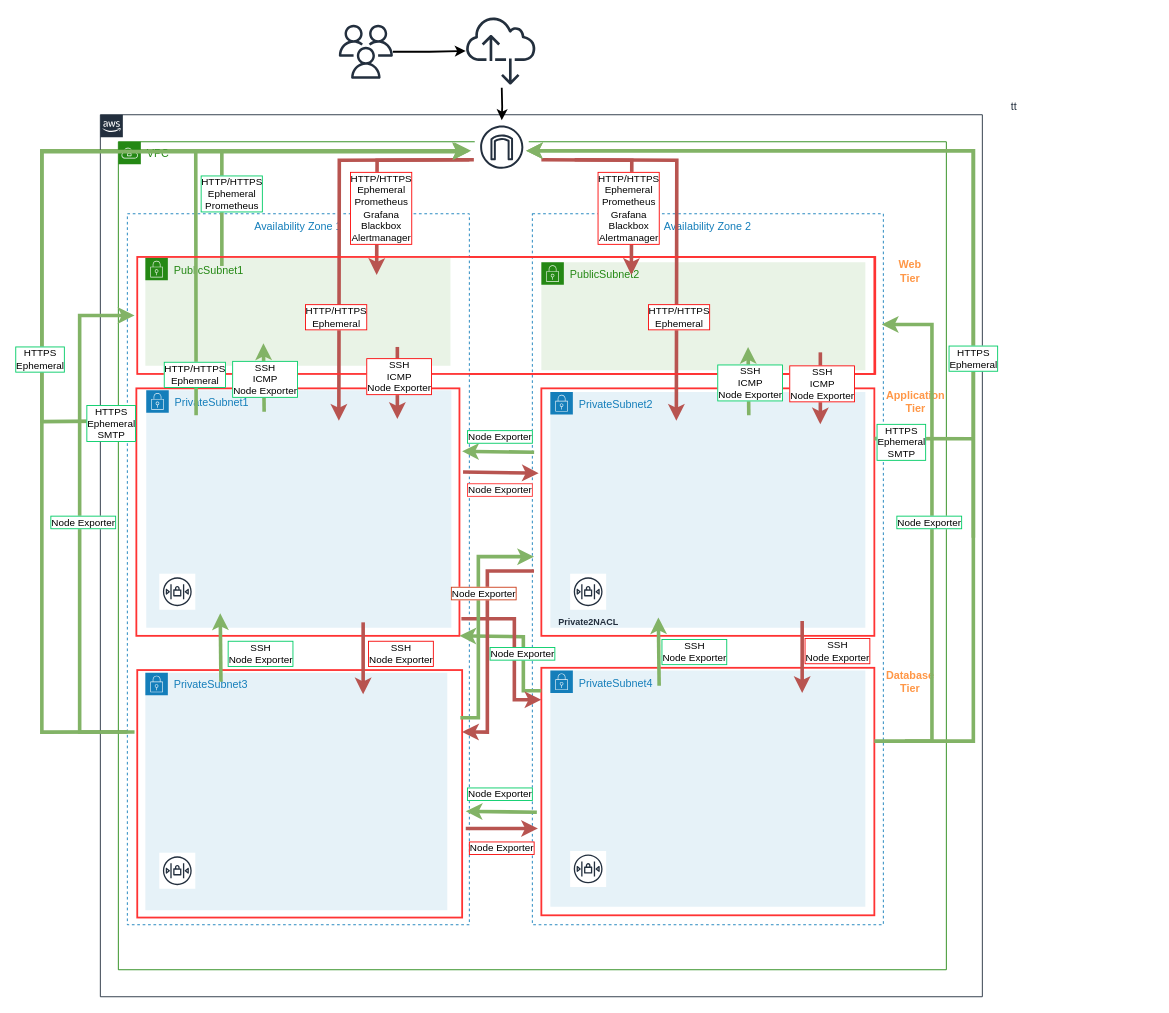
This 1169x1013 diagram has some shape labels left out. The centre of each missing label's shape, as x and y in pixels:
Internet gateway: point 501,146
Private1NACL: point 176,591
Private3NACL: point 176,870
Private4NACL: point 587,868
Users: point 365,51
